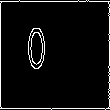O_S: (46, 29, 64, 81)
